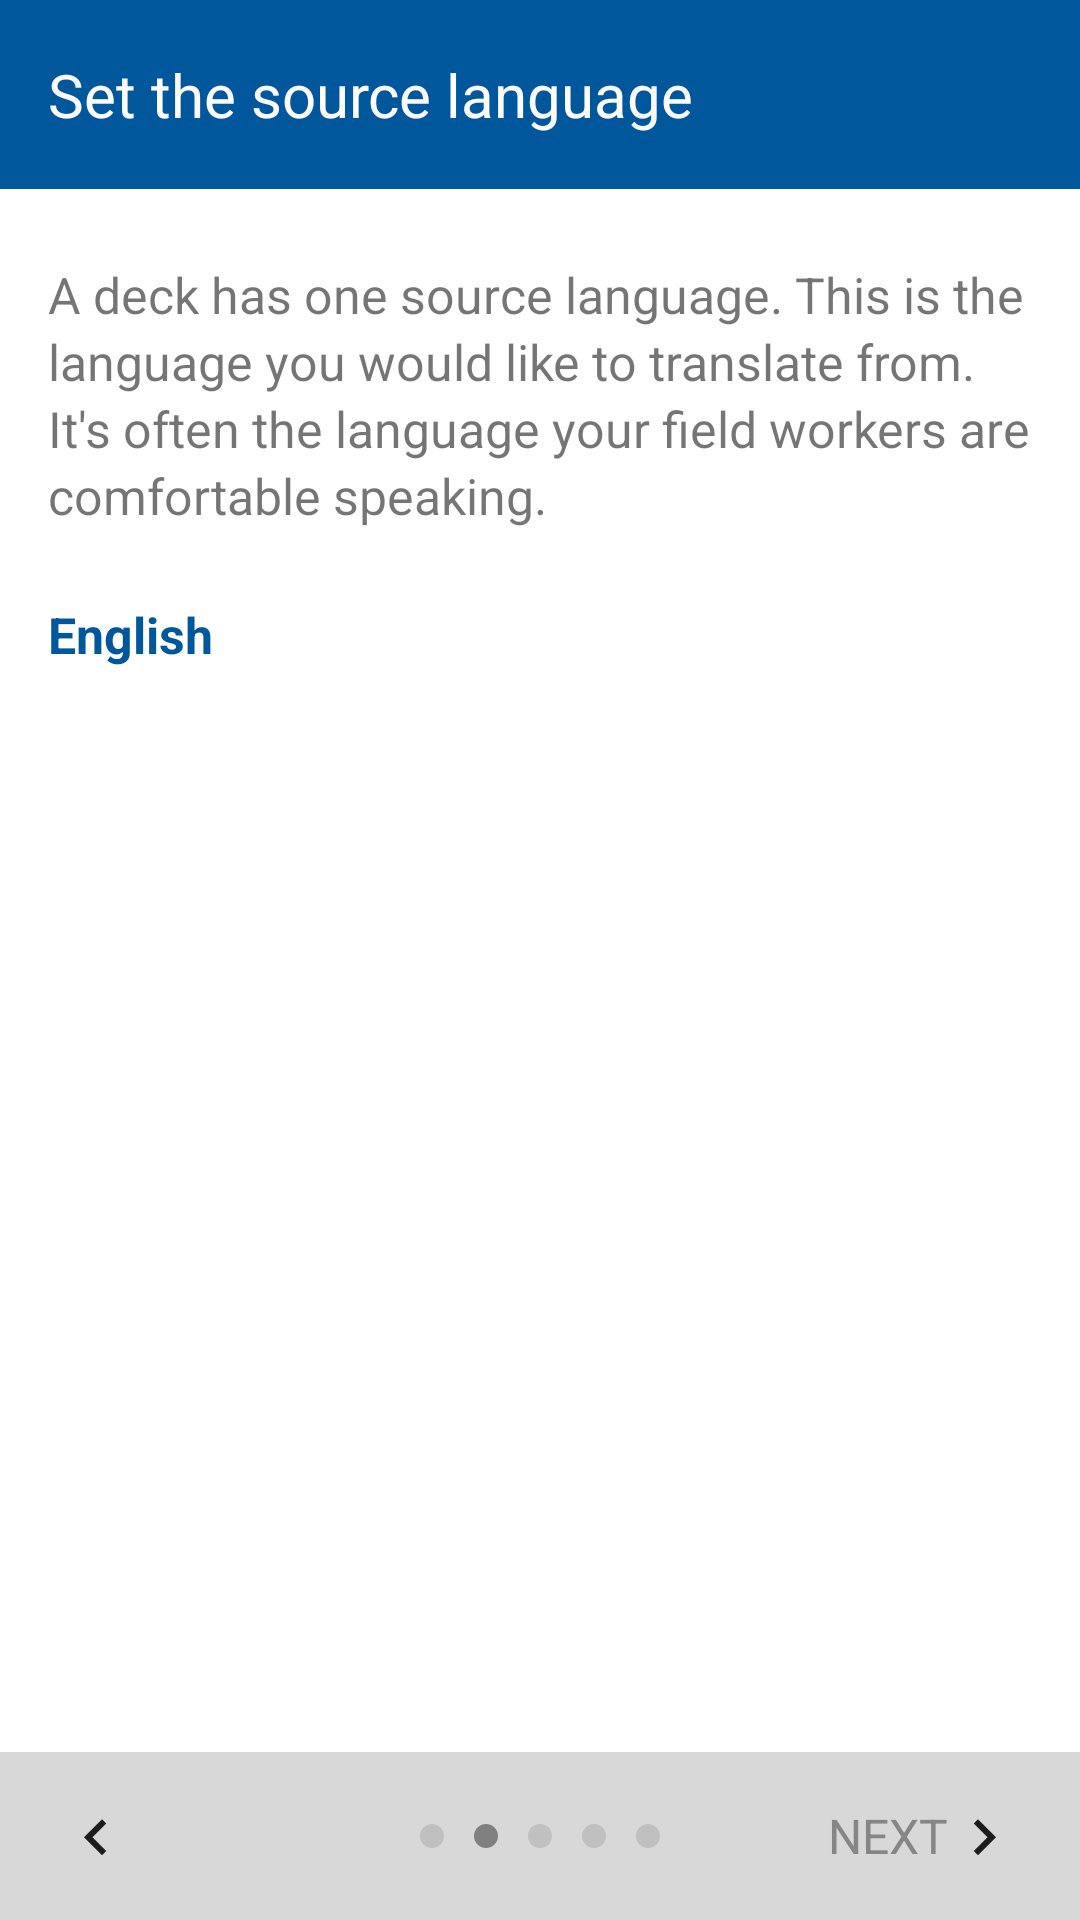

Icon click points for this 1080px x 1920px phone screenshot, format [x,y]:
back arrow: [95,1837]
